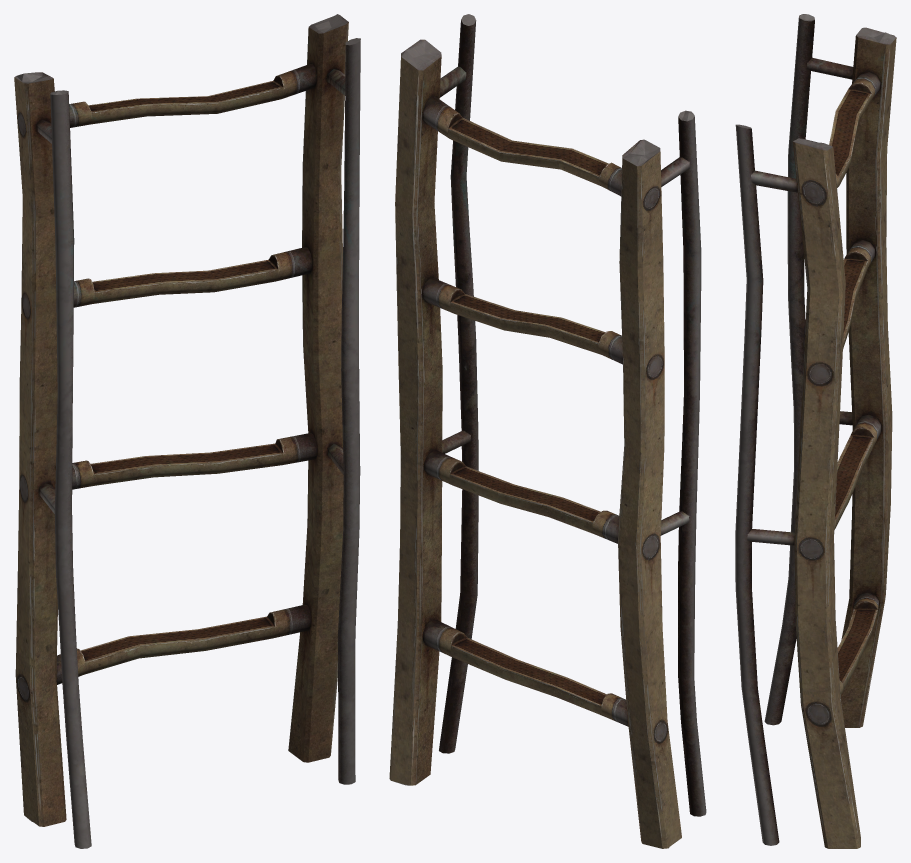
Rendered from ladder_long_pplant_broken.dae.
3 renders of one model, left to right at view 1: azimuth 30°, elevation 25°; view 2: azimuth 150°, elevation 25°; view 3: azimuth 270°, elevation 25°, orthographic. The views are drawn at different scales.
Parts seen in each view (by area): view 1: ladder_long_pplant; view 2: ladder_long_pplant; view 3: ladder_long_pplant.
Part boxes in pixels (x1,y1,x2,y2): ladder_long_pplant: (14,14,360,848); ladder_long_pplant: (389,14,706,848); ladder_long_pplant: (735,14,896,848).
Bounding box in the file's own units: 0.8474 × 2.07 × 0.4201.
